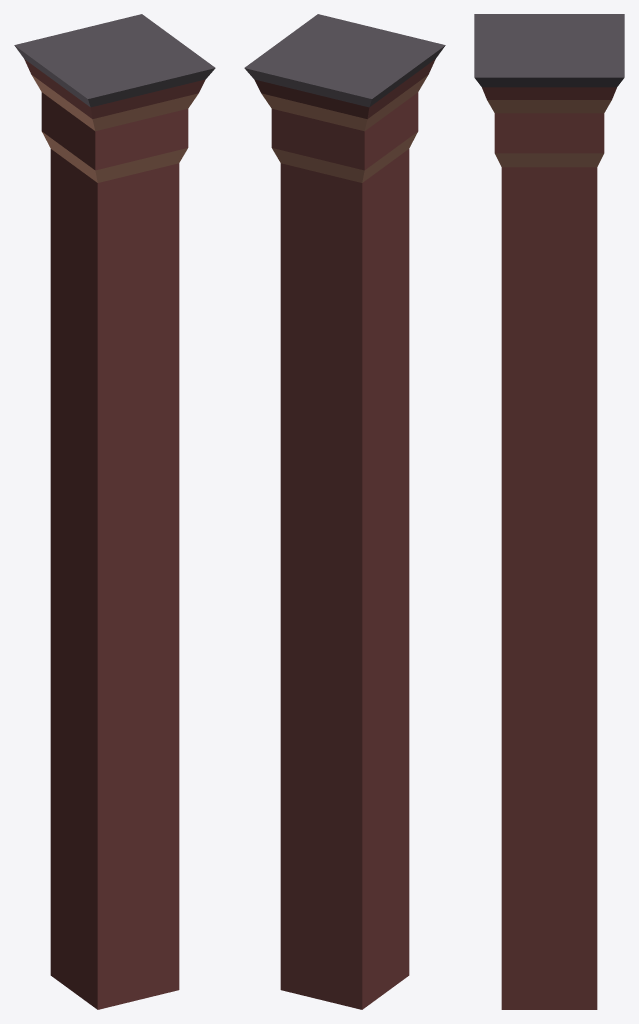
Rendered from factory_column1.fbx.
The picture shows the model from 3 angles, left to right: view 1: azimuth 30°, elevation 25°; view 2: azimuth 150°, elevation 25°; view 3: azimuth 270°, elevation 25°; orthographic projection.
Visible parts, largest first — view 1: factory_column1; view 2: factory_column1; view 3: factory_column1.
Boxes of the visible parts, x1,y1,x2,y2 form: factory_column1: [14, 14, 215, 1009]; factory_column1: [244, 14, 445, 1009]; factory_column1: [474, 14, 624, 1009].
Bounding box in the file's own units: 23.55 × 163 × 23.55.
